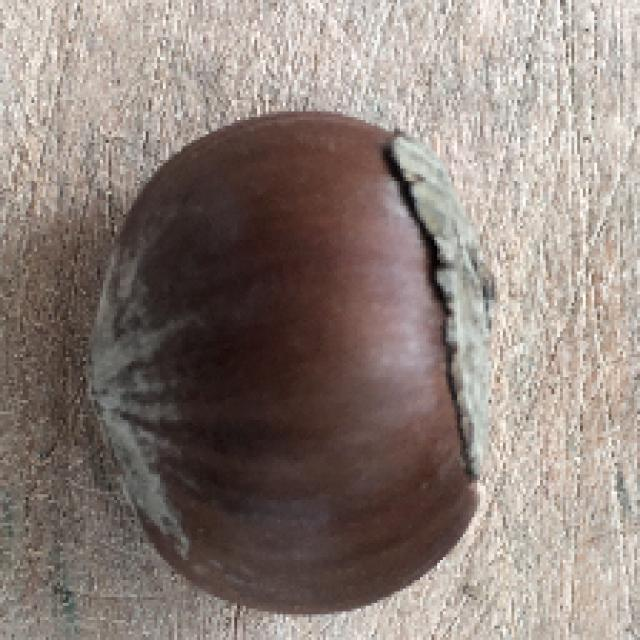damagedHazelnut: (78, 108, 523, 619)
